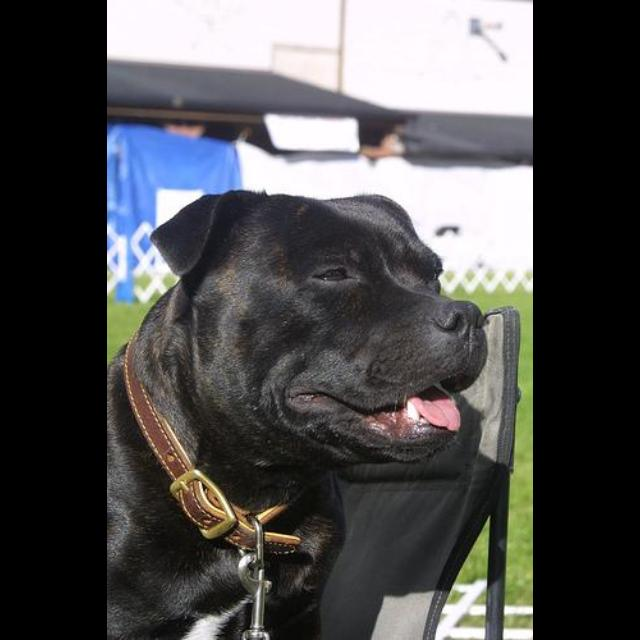amstaff: (108, 189, 490, 640)
